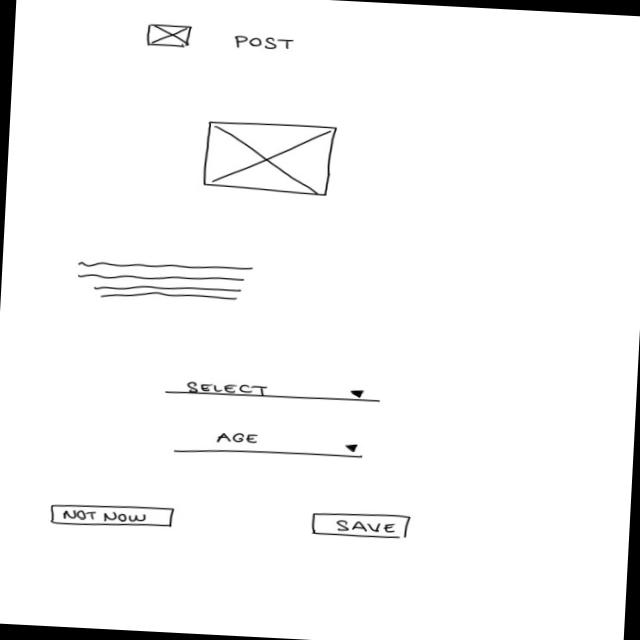button: (47, 501, 180, 534), (309, 511, 415, 543)
checkbox: (138, 20, 299, 59)
image: (201, 117, 341, 200)
select: (167, 424, 369, 465), (162, 375, 385, 408)
textbox: (73, 257, 256, 309)
